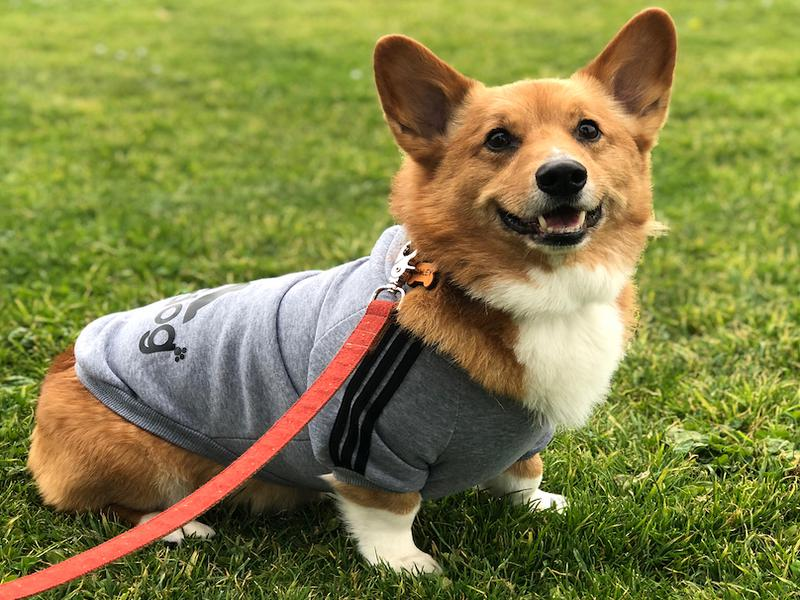corgi: (370, 8, 685, 285)
